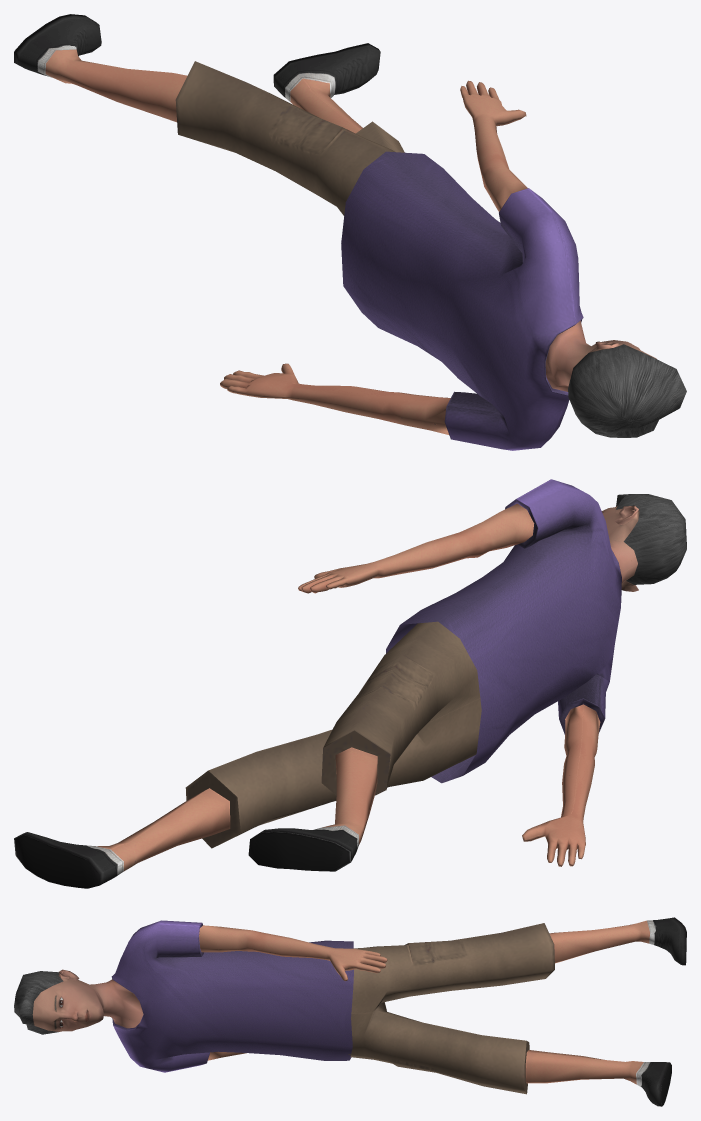
Rendered from walk.obj.
The picture shows the model from 3 angles, top to bottom: view 1: azimuth 30°, elevation 25°; view 2: azimuth 150°, elevation 25°; view 3: azimuth 270°, elevation 25°; orthographic projection. The views are drawn at different scales.
Size of the model in its own units: 0.7672 by 0.4864 by 1.76.
Materials: 1 (1 with a texture image).
